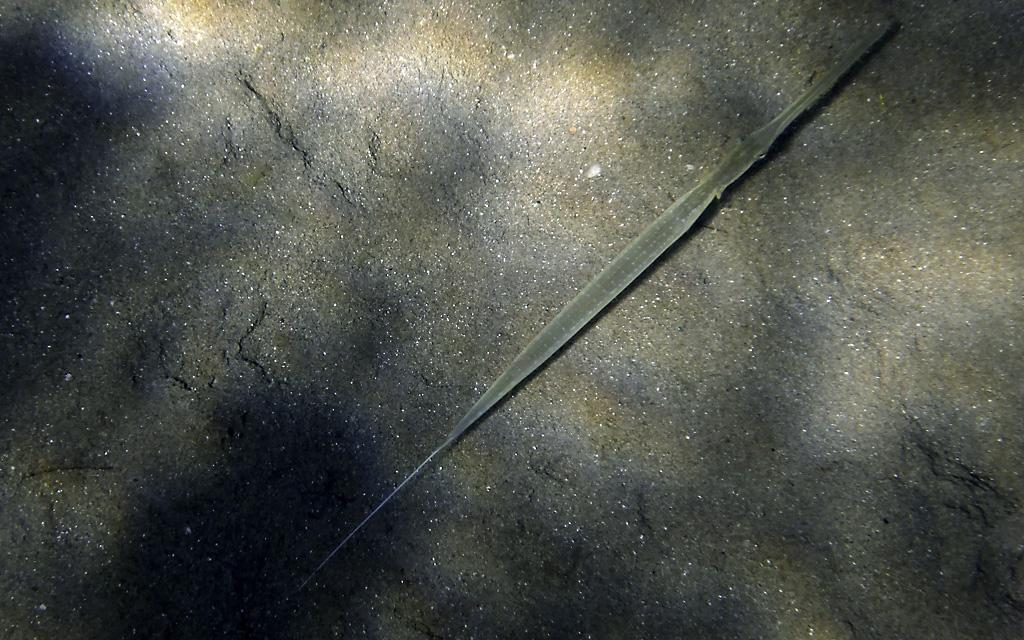Fistularia commersonii: (343, 17, 872, 592)
